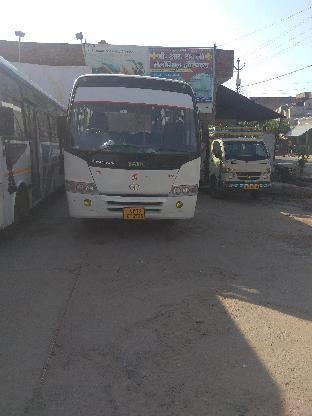bus: (56, 75, 209, 227)
